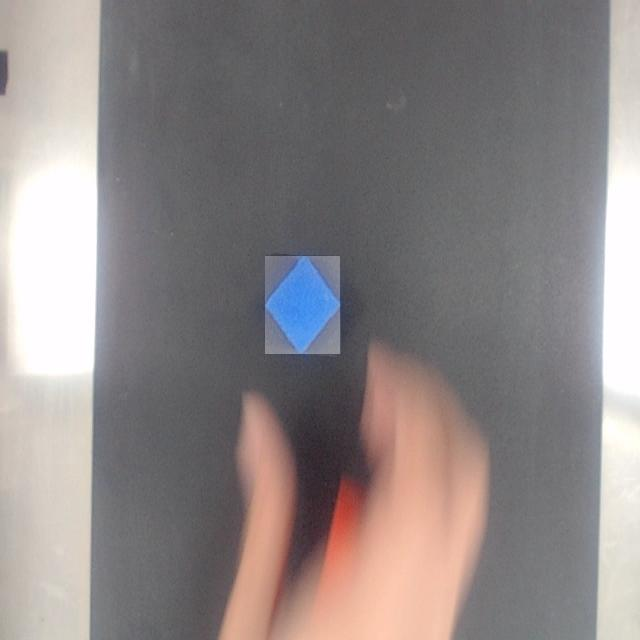Azul: (266, 256, 340, 354)
